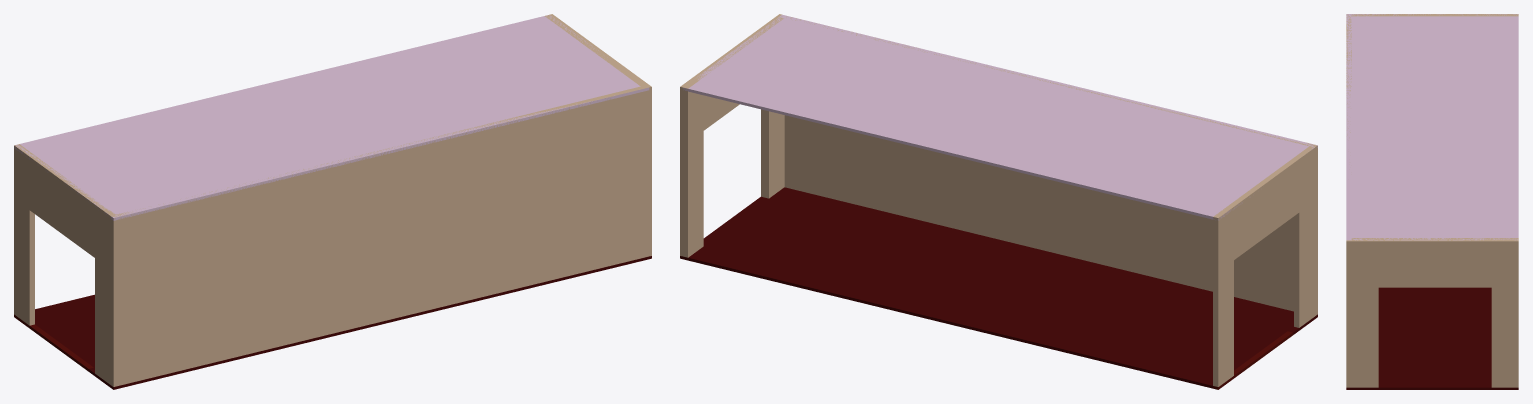
The model's file is Hall00.gltf.
3 renders of one model, left to right at view 1: azimuth 30°, elevation 25°; view 2: azimuth 150°, elevation 25°; view 3: azimuth 270°, elevation 25°, orthographic. The views are drawn at different scales.
Parts seen in each view (by area): view 1: wall2-north, roof, wall3-back, floor, Wall4-front; view 2: roof, floor, wall2-north, wall3-back, Wall4-front; view 3: roof, Wall4-front, floor, wall2-north, wall3-back.
Boxes of the visible parts, box(x1,y1,x2,y2) form: wall2-north: box(110, 84, 651, 386); roof: box(14, 15, 649, 220); wall3-back: box(14, 144, 115, 384); floor: box(14, 256, 651, 389); Wall4-front: box(545, 14, 648, 86); roof: box(682, 14, 1317, 220); floor: box(680, 187, 1317, 389); wall2-north: box(777, 14, 1317, 316); wall3-back: box(1213, 146, 1314, 386); Wall4-front: box(680, 16, 784, 257); roof: box(1346, 14, 1518, 240); Wall4-front: box(1351, 238, 1518, 387); floor: box(1346, 287, 1518, 389); wall2-north: box(1346, 14, 1351, 387); wall3-back: box(1351, 14, 1518, 16).
Size of the model in its own units: 200 by 61 by 64.
